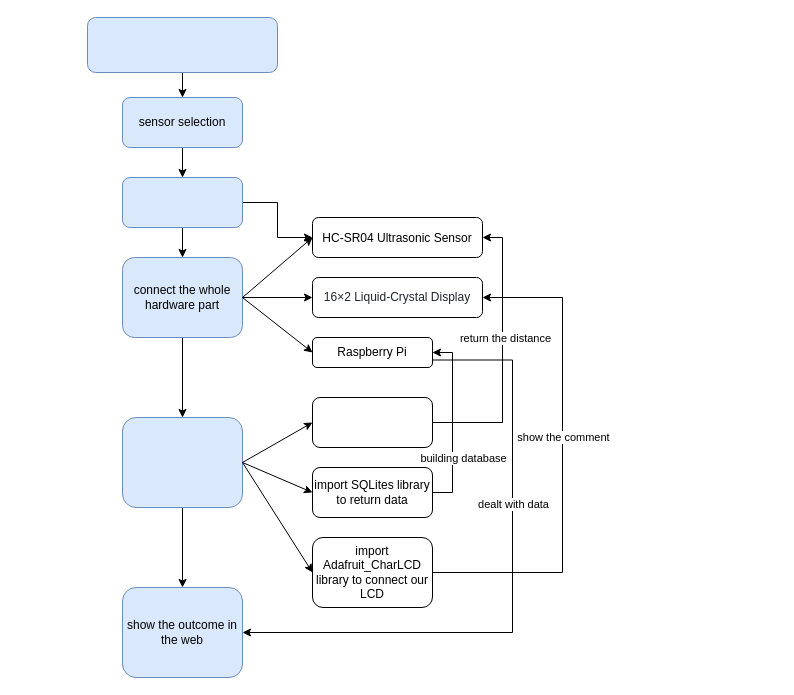
Some shapes in this 794 by 695 pixel diagram are drawn without their labels. The shapes that lost their labels are listed below. From the top down, each one's centre as x and y in pixels, then its label:
At point (182, 44): "Initial proposal: methos;application;goal ect".
At point (182, 202): "sensor test".
At point (372, 422): "import RPi.GPIO library to connect our sensor".
At point (182, 462): "Code in Raspberry Pi to achieve the goal".
